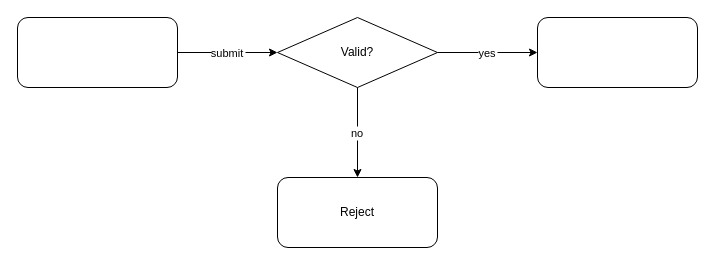
This 715x265 diagram has some shape labels left out. The shapes that lost their labels are listed below. From the top down, each one's centre as x and y in pixels, then its label:
At (97,52): "Client".
At (617,52): "Store".
